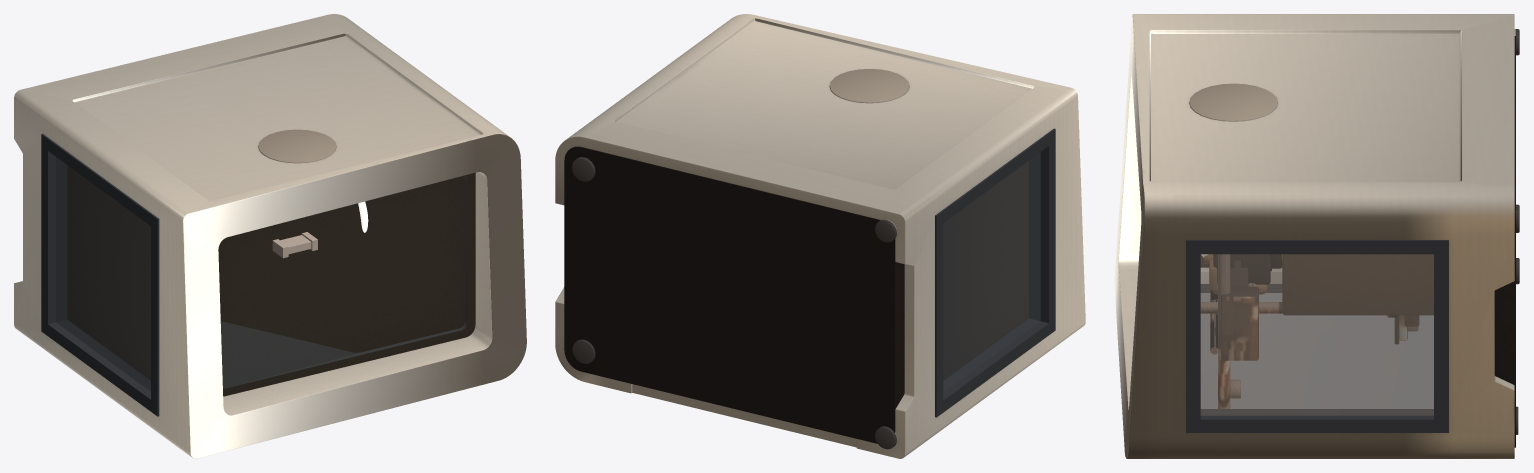
Rendered from deltrol_p2s_explorer_v40.glb.
The picture shows the model from 3 angles, left to right: view 1: azimuth 30°, elevation 25°; view 2: azimuth 150°, elevation 25°; view 3: azimuth 270°, elevation 25°; orthographic projection. The views are drawn at different scales.
Parts seen in each view (by area): view 1: unibody_shell, interior_ceiling_liner, left_glass_window, interior_left_back_baffle, left_window_gasket, top_roof_glass, rear_exhaust_shroud, upper_gantry_rail_assembly; view 2: unibody_shell, chassis_recessed_plinth, left_glass_window, interior_left_back_baffle, left_window_gasket, rear_exhaust_shroud; view 3: unibody_shell, right_glass_window, right_glass_sheen, front_glass_door, right_window_gasket, interior_rear_electronics_box, x_gantry_crossbeam, chassis_recessed_plinth, rear_exhaust_shroud, x_guide_front, toolhead_chassis.
Boxes of the visible parts, x1,y1,x2,y2 form: unibody_shell: [14, 14, 526, 458]; interior_ceiling_liner: [218, 172, 475, 396]; left_glass_window: [56, 157, 150, 391]; interior_left_back_baffle: [67, 165, 150, 380]; left_window_gasket: [41, 133, 159, 416]; top_roof_glass: [220, 176, 467, 388]; rear_exhaust_shroud: [258, 129, 336, 163]; upper_gantry_rail_assembly: [272, 232, 317, 258]; unibody_shell: [555, 14, 1085, 458]; chassis_recessed_plinth: [564, 146, 904, 443]; left_glass_window: [943, 152, 1040, 391]; interior_left_back_baffle: [943, 161, 1028, 380]; left_window_gasket: [935, 128, 1055, 417]; rear_exhaust_shroud: [829, 69, 909, 103]; unibody_shell: [1114, 14, 1514, 458]; right_glass_window: [1201, 254, 1433, 414]; right_glass_sheen: [1201, 255, 1433, 414]; front_glass_door: [1201, 289, 1433, 408]; right_window_gasket: [1186, 240, 1448, 432]; interior_rear_electronics_box: [1201, 254, 1433, 314]; x_gantry_crossbeam: [1221, 260, 1258, 360]; chassis_recessed_plinth: [1494, 36, 1515, 447]; rear_exhaust_shroud: [1189, 83, 1277, 121]; x_guide_front: [1201, 254, 1397, 408]; toolhead_chassis: [1213, 254, 1270, 284].
Size of the model in its own units: 0.426 by 0.2955 by 0.3818.
Materials: 19 (14 with a texture image).
